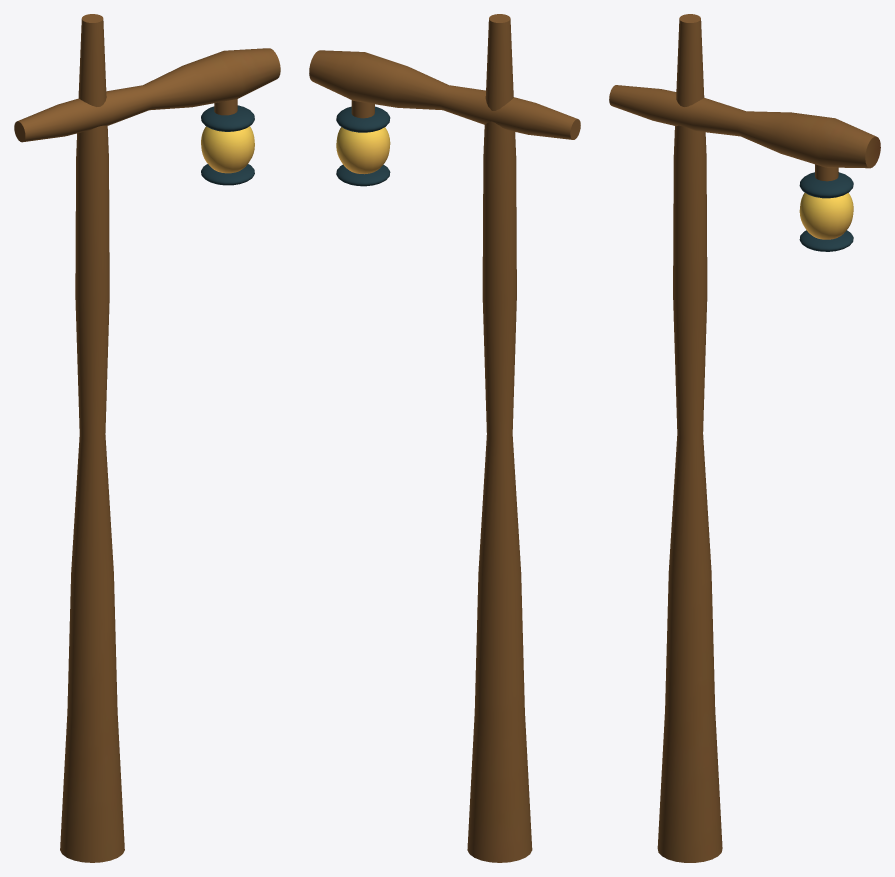
The model's file is lamp_post.fbx.
3 renders of one model, left to right at view 1: azimuth 30°, elevation 25°; view 2: azimuth 150°, elevation 25°; view 3: azimuth 330°, elevation 25°, orthographic.
Visible parts, largest first — view 1: pCylinder10, pasted__pCylinder10, pasted__pasted__pSphere7, pSphere7, pasted__pSphere7; view 2: pCylinder10, pasted__pCylinder10, pasted__pasted__pSphere7, pSphere7, pasted__pSphere7; view 3: pCylinder10, pasted__pCylinder10, pasted__pasted__pSphere7, pSphere7, pasted__pSphere7.
Boxes of the visible parts, x1,y1,x2,y2 form: pCylinder10: (60,14,124,862); pasted__pCylinder10: (14,48,280,142); pasted__pasted__pSphere7: (201,126,254,173); pSphere7: (201,105,254,131); pasted__pSphere7: (201,164,254,185); pCylinder10: (467,14,532,862); pasted__pCylinder10: (309,50,580,139); pasted__pasted__pSphere7: (336,127,390,174); pSphere7: (336,106,390,132); pasted__pSphere7: (336,164,390,186); pCylinder10: (657,14,722,862); pasted__pCylinder10: (609,85,880,168); pasted__pasted__pSphere7: (799,192,853,239); pSphere7: (799,172,853,198); pasted__pSphere7: (799,230,853,251).
Bounding box in the file's own units: 0.1312 × 0.4066 × 0.0288.
